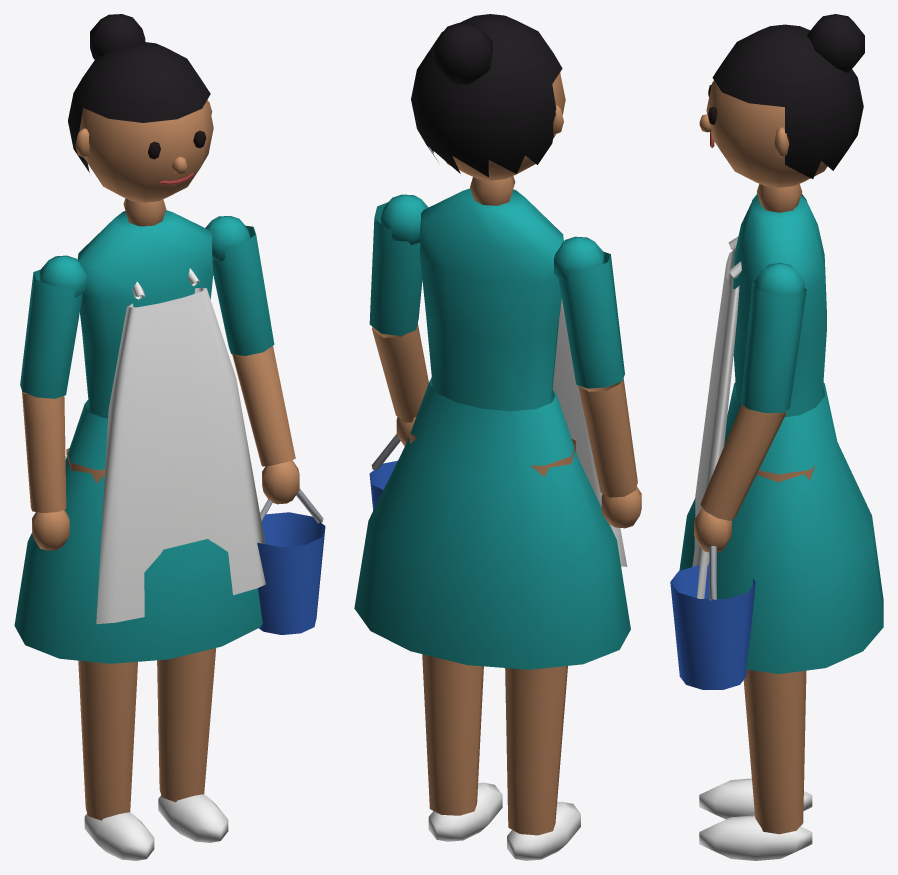
The model's file is Staff_Housekeeper.obj.
3 renders of one model, left to right at view 1: azimuth 30°, elevation 25°; view 2: azimuth 150°, elevation 25°; view 3: azimuth 270°, elevation 25°, orthographic. The views are drawn at different scales.
Parts seen in each view (by area): view 1: Torso, Head, ArmR, ArmL, LegR, LegL, Prop; view 2: Torso, Head, ArmR, LegR, LegL, ArmL, Prop; view 3: Torso, Head, ArmL, LegL, Prop, LegR.
Part boxes in pixels (x1,y1,x2,y2): Torso: [14, 198, 265, 663]; Head: [68, 14, 213, 202]; ArmR: [20, 255, 86, 550]; ArmL: [205, 216, 299, 504]; LegR: [66, 448, 154, 860]; LegL: [157, 648, 228, 842]; Prop: [257, 488, 325, 634]; Torso: [354, 176, 630, 669]; Head: [411, 14, 565, 180]; ArmR: [554, 236, 641, 528]; LegR: [505, 439, 580, 860]; LegL: [409, 417, 502, 841]; ArmL: [369, 194, 428, 446]; Prop: [369, 434, 400, 510]; Torso: [679, 184, 883, 673]; Head: [699, 14, 864, 187]; ArmL: [694, 263, 806, 552]; LegL: [699, 465, 815, 860]; Prop: [670, 546, 755, 689]; LegR: [699, 778, 812, 819].
Size of the model in its own units: 0.6345 by 1.78 by 0.4191.
Materials: 1 (1 with a texture image).
